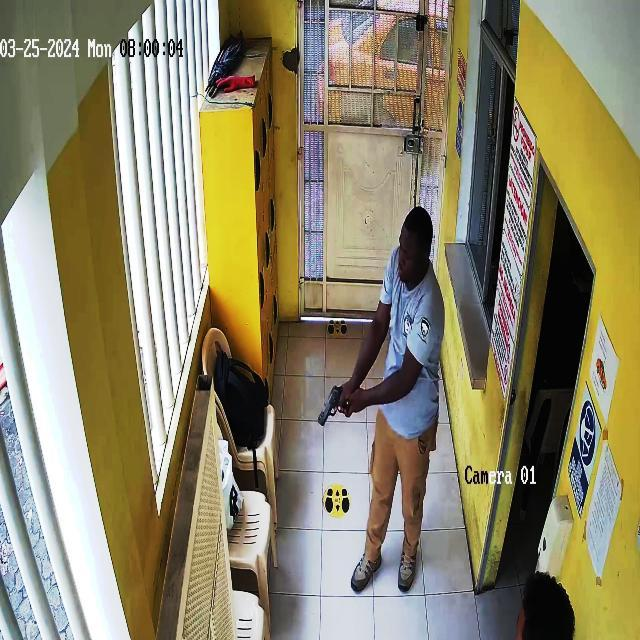Gun: (303, 376, 359, 439)
